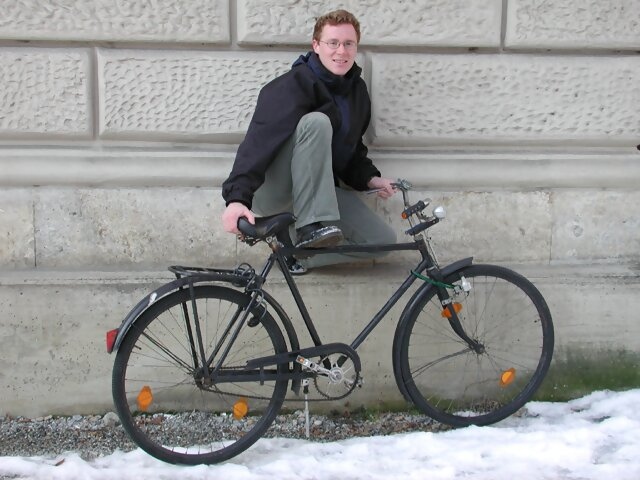person: (215, 8, 401, 253)
